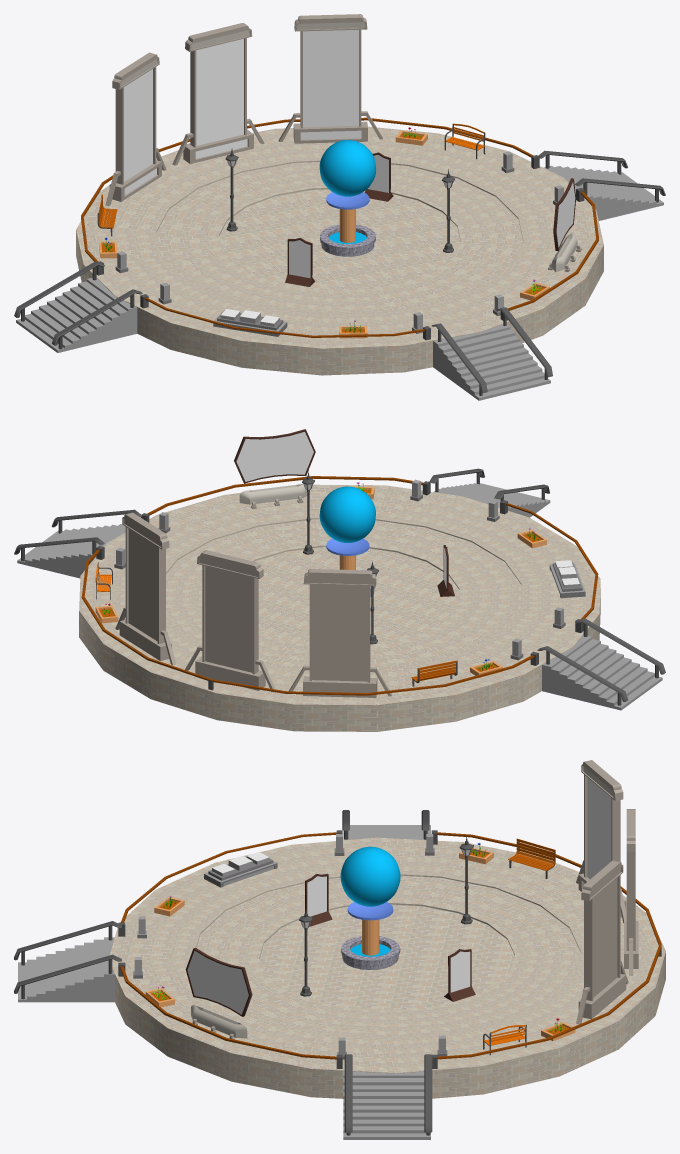
File: center.glb
3 views of the same model, one above another, from view 1: azimuth 30°, elevation 25°; view 2: azimuth 150°, elevation 25°; view 3: azimuth 270°, elevation 25° (orthographic). The views are drawn at different scales.
Visible parts, largest first — view 1: pCylinder1, pCube62, pCube48, pCube4, pCube6, pCube63, pCube5, pCylinder3, pSphere1, pCylinder2, pCube57, pCube51 (+3 smaller); view 2: pCylinder1, pCube63, pCube48, pCube6, pCube62, pCube57, pCylinder3, pCube5, pSphere1, pCube4, pCube51, pCylinder2 (+1 smaller); view 3: pCylinder1, pCube5, pCube4, pCube62, pCube63, pCylinder3, pCube57, pSphere1, pCylinder2, pCube48, pCube6, pCube51 (+4 smaller).
Part boxes in pixels (left/top/right/bottom): pCylinder1: left=76, top=126, right=603, bottom=375; pCube62: left=278, top=14, right=382, bottom=143; pCube48: left=172, top=23, right=264, bottom=165; pCube4: left=431, top=307, right=552, bottom=400; pCube6: left=14, top=261, right=142, bottom=352; pCube63: left=105, top=52, right=166, bottom=206; pCube5: left=537, top=150, right=665, bottom=220; pCylinder3: left=81, top=117, right=598, bottom=340; pSphere1: left=319, top=140, right=376, bottom=196; pCylinder2: left=320, top=192, right=375, bottom=256; pCube57: left=548, top=178, right=581, bottom=272; pCube51: left=213, top=309, right=287, bottom=336; pCylinder1: left=79, top=484, right=600, bottom=731; pCube63: left=289, top=569, right=391, bottom=697; pCube48: left=185, top=550, right=275, bottom=692; pCube6: left=537, top=618, right=665, bottom=710; pCube62: left=115, top=512, right=176, bottom=665; pCube57: left=234, top=429, right=315, bottom=508; pCylinder3: left=81, top=476, right=598, bottom=695; pCube5: left=14, top=509, right=142, bottom=578; pSphere1: left=319, top=486, right=375, bottom=542; pCube4: left=429, top=468, right=550, bottom=517; pCube51: left=549, top=560, right=585, bottom=598; pCylinder2: left=326, top=538, right=375, bottom=597; pCylinder1: left=110, top=837, right=665, bottom=1098; pCube5: left=343, top=1054, right=432, bottom=1139; pCube4: left=14, top=921, right=121, bottom=1002; pCube62: left=576, top=860, right=628, bottom=1024; pCube63: left=576, top=760, right=626, bottom=922; pCylinder3: left=118, top=830, right=661, bottom=1068; pCube57: left=185, top=947, right=252, bottom=1039; pSphere1: left=340, top=846, right=400, bottom=906; pCylinder2: left=341, top=902, right=400, bottom=969; pCube48: left=624, top=809, right=638, bottom=975; pCube6: left=342, top=810, right=430, bottom=840; pCube51: left=204, top=852, right=277, bottom=887.
Size of what is drawn, in the model's own units: 54.65 by 12.78 by 47.74.
3 materials, 3 textured.
